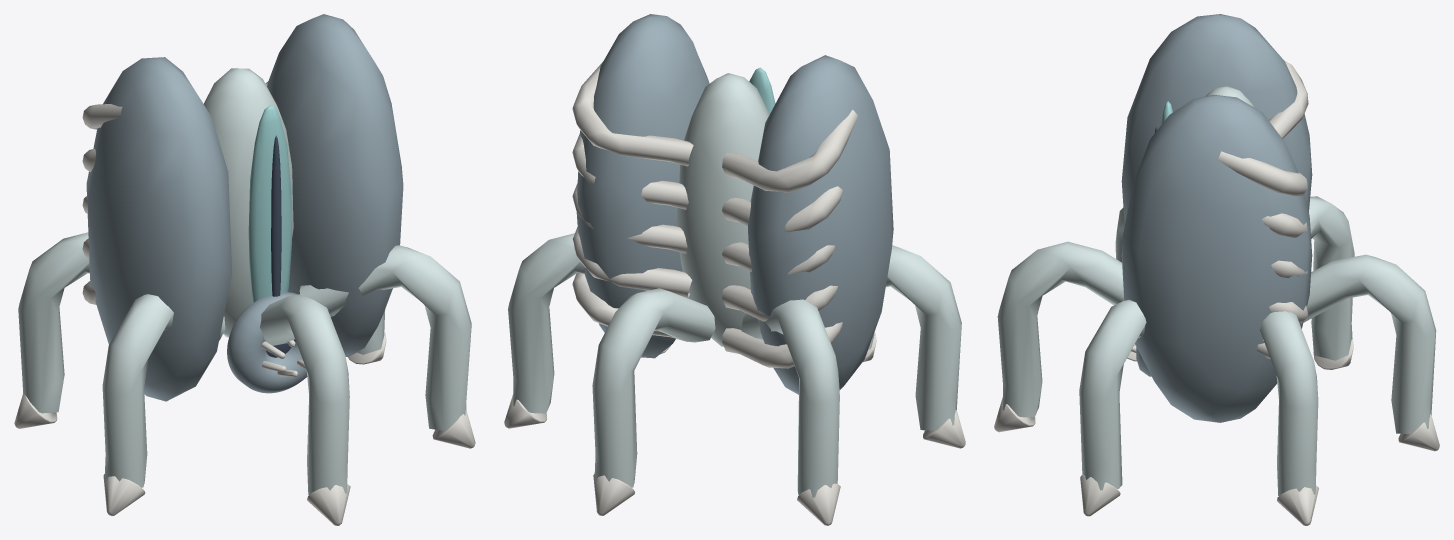
File: bio_window_sac_03_far.glb
The picture shows the model from 3 angles, left to right: view 1: azimuth 30°, elevation 25°; view 2: azimuth 150°, elevation 25°; view 3: azimuth 270°, elevation 25°; orthographic projection. The views are drawn at different scales.
Visible parts, largest first — view 1: Separated curved shell, Crooked support.005, Crooked support.004, Internal receptor sac, Crooked support.003, Crooked support.002, Single vertical photoreceptor, Raised oral lip, Long internal pupil, Shell window buttress, Contact spur.004, Contact spur.003 (+3 smaller); view 2: Separated curved shell, Shell window buttress, Internal receptor sac, Crooked support.001, Crooked support.002, Crooked support.003, Crooked support, Contact spur.002, Contact spur.001, Contact spur.003, Contact spur, Single vertical photoreceptor; view 3: Separated curved shell, Crooked support.001, Crooked support.004, Crooked support.005, Crooked support, Shell window buttress, Crooked support.002, Contact spur, Contact spur.005, Contact spur.001, Contact spur.004.
Part boxes in pixels (<box>): Separated curved shell: <box>86,14,403,401</box>; Crooked support.005: <box>299,245,471,430</box>; Crooked support.004: <box>260,294,349,494</box>; Internal receptor sac: <box>204,68,293,337</box>; Crooked support.003: <box>102,294,225,487</box>; Crooked support.002: <box>18,232,89,413</box>; Single vertical photoreceptor: <box>248,105,291,302</box>; Raised oral lip: <box>227,292,307,393</box>; Long internal pupil: <box>271,135,281,296</box>; Shell window buttress: <box>82,82,267,304</box>; Contact spur.004: <box>307,484,350,525</box>; Contact spur.003: <box>103,474,145,516</box>; Separated curved shell: <box>576,14,893,394</box>; Shell window buttress: <box>572,62,857,368</box>; Internal receptor sac: <box>676,73,769,346</box>; Crooked support.001: <box>592,288,715,487</box>; Crooked support.002: <box>741,299,839,497</box>; Crooked support.003: <box>886,245,961,430</box>; Crooked support: <box>508,233,585,413</box>; Contact spur.002: <box>797,483,840,525</box>; Contact spur.001: <box>593,474,634,515</box>; Contact spur.003: <box>923,410,965,448</box>; Contact spur: <box>504,394,546,428</box>; Single vertical photoreceptor: <box>749,67,775,113</box>; Separated curved shell: <box>1121,14,1312,422</box>; Crooked support.001: <box>1303,254,1436,433</box>; Crooked support.004: <box>997,241,1124,417</box>; Crooked support.005: <box>1079,300,1146,490</box>; Crooked support: <box>1260,311,1318,495</box>; Shell window buttress: <box>1217,60,1308,359</box>; Crooked support.002: <box>1309,196,1354,360</box>; Contact spur: <box>1277,485,1318,525</box>; Contact spur.005: <box>1080,475,1120,516</box>; Contact spur.001: <box>1398,413,1439,451</box>; Contact spur.004: <box>994,397,1035,432</box>.
Bounding box in the file's own units: 1.93 × 2 × 2.1.
